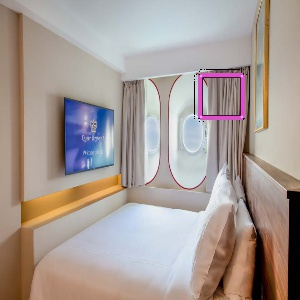square: (195, 69, 249, 125)
